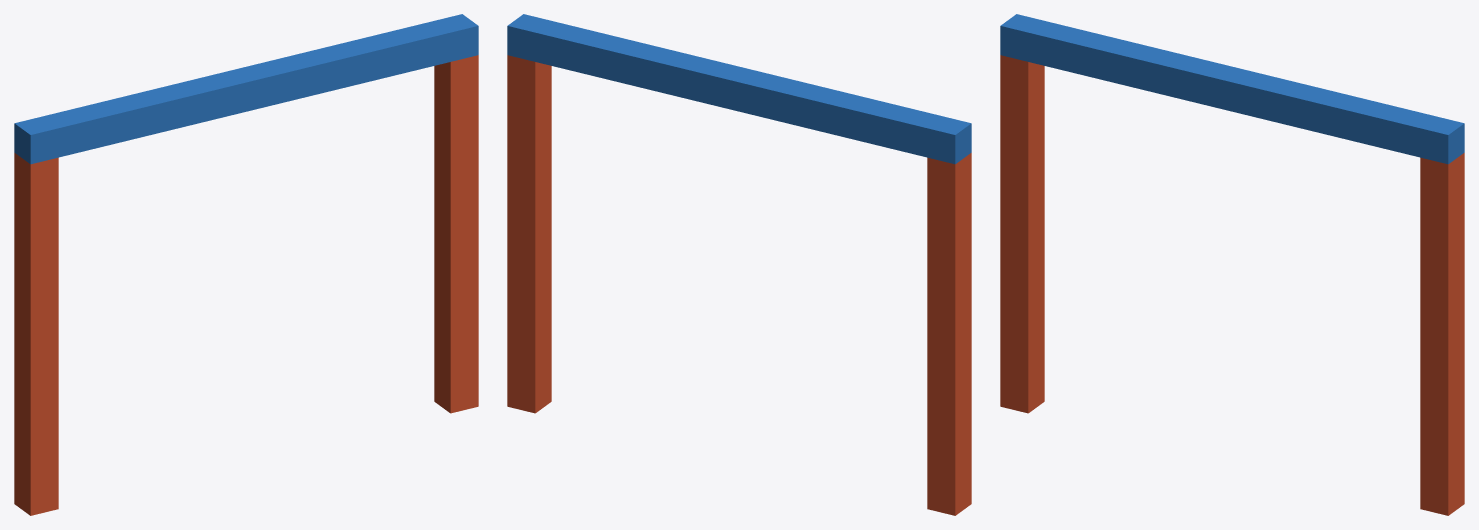
The model's file is portico-exemplo-84bf2f67bc.glb.
The picture shows the model from 3 angles, left to right: view 1: azimuth 30°, elevation 25°; view 2: azimuth 150°, elevation 25°; view 3: azimuth 330°, elevation 25°; orthographic projection.
Visible parts, largest first — view 1: Viga, Pilar esquerdo, Pilar direito; view 2: Viga, Pilar esquerdo, Pilar direito; view 3: Viga, Pilar direito, Pilar esquerdo.
Part boxes in pixels (x1,y1,x2,y2): Viga: (14,14,478,164); Pilar esquerdo: (14,153,58,515); Pilar direito: (434,55,478,413); Viga: (507,14,971,164); Pilar esquerdo: (927,153,971,515); Pilar direito: (507,55,551,413); Viga: (1000,14,1464,164); Pilar direito: (1420,153,1464,515); Pilar esquerdo: (1000,55,1044,413).
Bounding box in the file's own units: 3.2 × 2.6 × 0.2.
